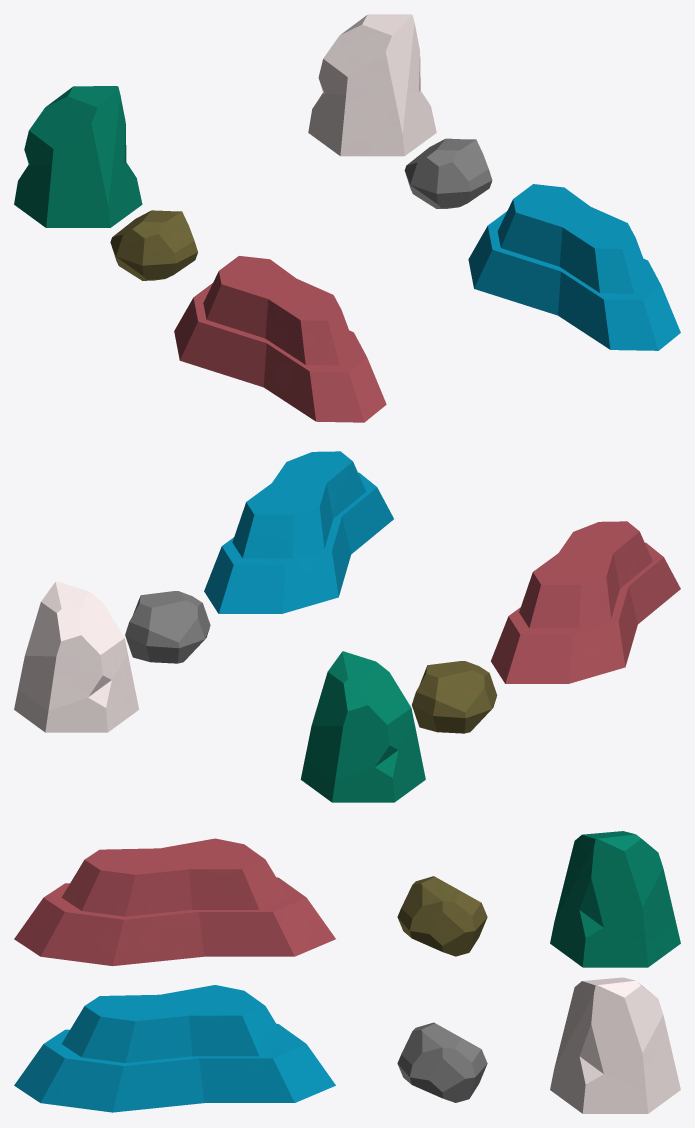
Rendered from pedras.fbx.
The picture shows the model from 3 angles, top to bottom: view 1: azimuth 30°, elevation 25°; view 2: azimuth 150°, elevation 25°; view 3: azimuth 270°, elevation 25°; orthographic projection. The views are drawn at different scales.
Visible parts, largest first — view 1: Plane.001, Plane, Circle.001, Circle.004, Cube.001, Cube; view 2: Plane, Plane.001, Circle.004, Circle.001, Cube.001, Cube; view 3: Plane, Plane.001, Circle.004, Circle.001, Cube, Cube.001.
Boxes of the visible parts, box(x1,y1,x2,y2) form: Plane.001: box(468, 184, 680, 350); Plane: box(174, 256, 386, 422); Circle.001: box(308, 14, 436, 156); Circle.004: box(14, 86, 142, 227); Cube.001: box(404, 138, 492, 208); Cube: box(110, 210, 197, 280); Plane: box(491, 521, 680, 683); Plane.001: box(204, 451, 393, 613); Circle.004: box(300, 651, 425, 802); Circle.001: box(14, 581, 138, 732); Cube.001: box(125, 591, 210, 663); Cube: box(412, 661, 497, 733); Plane: box(14, 838, 335, 966); Plane.001: box(14, 985, 335, 1112); Circle.004: box(550, 831, 680, 967); Circle.001: box(550, 977, 680, 1113); Cube: box(397, 876, 487, 956); Cube.001: box(397, 1022, 487, 1102).
Bounding box in the file's own units: 1378 × 380 × 1831.
3 materials, 3 textured.
